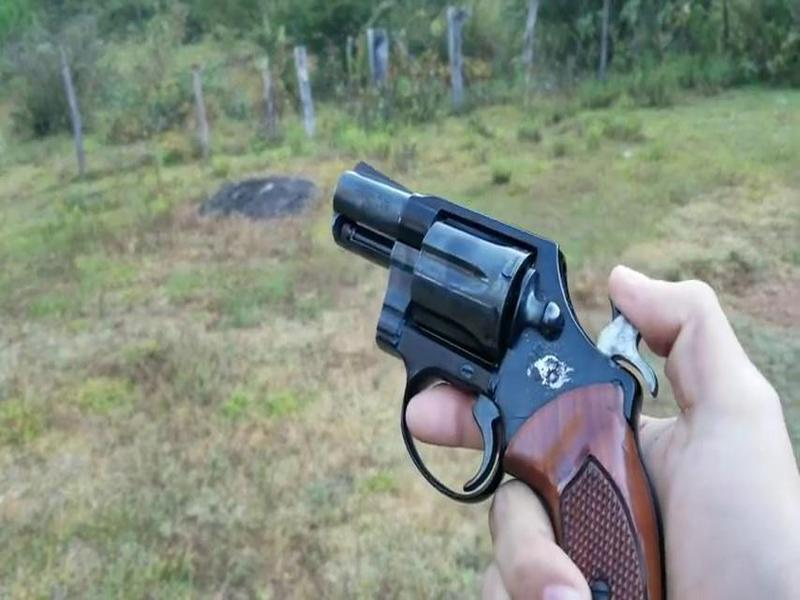Revolver: (274, 141, 670, 571)
